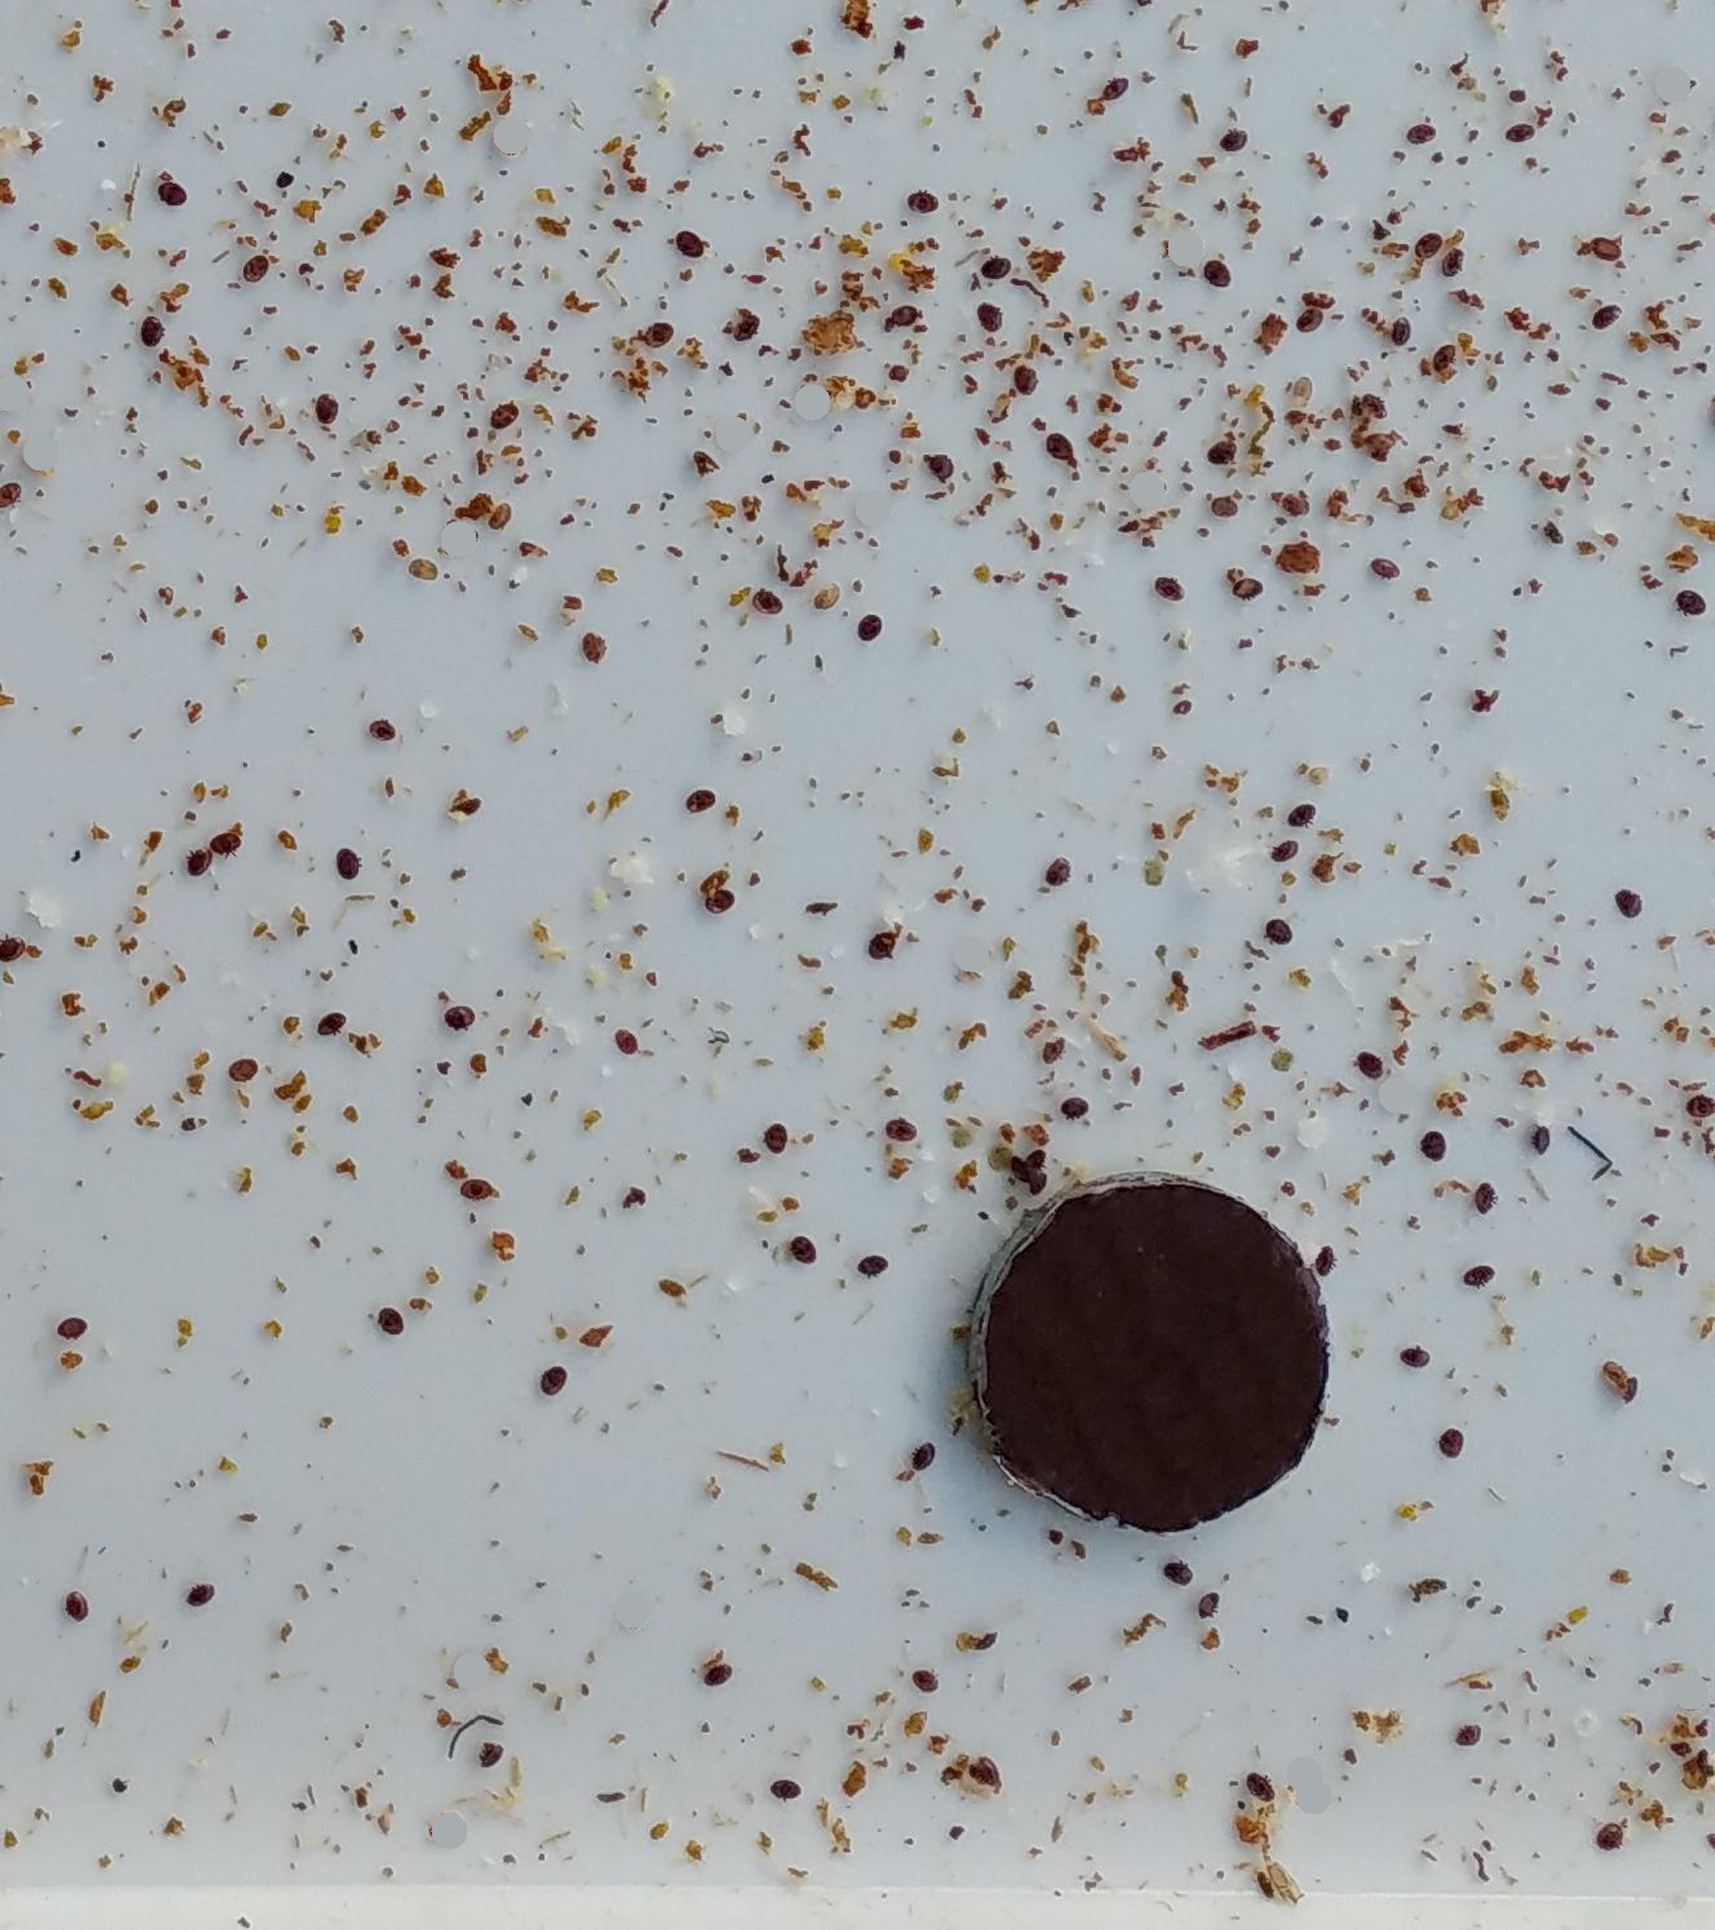Varroa: (574, 626, 617, 669), (1016, 1139, 1059, 1182), (1359, 392, 1396, 429), (846, 607, 881, 646), (1036, 1028, 1069, 1063), (728, 310, 761, 343), (1356, 1049, 1389, 1083), (156, 180, 187, 215), (1164, 1556, 1195, 1591), (407, 551, 440, 583), (1295, 305, 1326, 338), (445, 1001, 477, 1035), (315, 1010, 346, 1043), (1452, 1713, 1483, 1746), (973, 303, 1006, 334), (1404, 116, 1435, 149), (1099, 70, 1131, 101), (1374, 551, 1405, 583), (1506, 114, 1538, 146), (1208, 483, 1240, 515), (58, 1314, 89, 1346), (869, 927, 901, 958), (972, 1756, 1002, 1788), (1589, 301, 1619, 333), (1245, 1769, 1276, 1799), (612, 1021, 642, 1053), (212, 824, 242, 856), (1197, 1587, 1227, 1619), (483, 505, 515, 535), (705, 882, 735, 914), (475, 1740, 505, 1771), (642, 319, 674, 349), (227, 1054, 257, 1084), (1043, 856, 1073, 886), (854, 1255, 884, 1284), (910, 1664, 940, 1693), (1588, 238, 1617, 268), (755, 588, 785, 617), (929, 450, 957, 482), (488, 402, 516, 434), (758, 1117, 786, 1149), (185, 844, 214, 874), (1526, 1121, 1554, 1150), (1435, 247, 1463, 276), (311, 391, 339, 420), (376, 1308, 404, 1337), (1679, 586, 1707, 616), (65, 1594, 93, 1624), (1429, 341, 1457, 371), (1313, 1243, 1341, 1273), (1463, 1260, 1492, 1288), (1477, 1180, 1505, 1208), (1417, 1132, 1445, 1160), (540, 1366, 568, 1394), (1612, 891, 1641, 919), (1203, 258, 1232, 286), (910, 185, 939, 214), (1386, 316, 1414, 344), (1011, 371, 1040, 399), (886, 301, 914, 329), (690, 791, 718, 819), (334, 844, 363, 872), (185, 1577, 214, 1606), (679, 228, 707, 257), (1414, 227, 1440, 257), (973, 252, 1000, 281), (1217, 131, 1243, 161), (242, 248, 268, 276), (1271, 843, 1298, 871), (1265, 920, 1291, 948), (771, 1773, 800, 1799), (1437, 1433, 1463, 1462), (704, 1659, 730, 1687), (788, 1238, 814, 1266), (369, 717, 396, 743), (470, 1170, 497, 1197), (907, 1442, 934, 1468), (1061, 1094, 1088, 1121), (1046, 435, 1073, 462), (1238, 569, 1265, 594), (139, 316, 164, 343), (1414, 1332, 1439, 1359), (1207, 439, 1232, 463), (889, 1116, 914, 1140), (1400, 1341, 1424, 1367), (1159, 579, 1184, 603), (1291, 804, 1316, 828), (1602, 1817, 1626, 1839)
